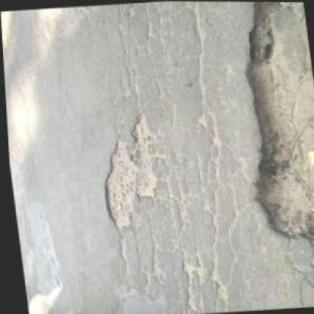Hueco: (223, 1, 313, 300), (91, 110, 160, 230)
